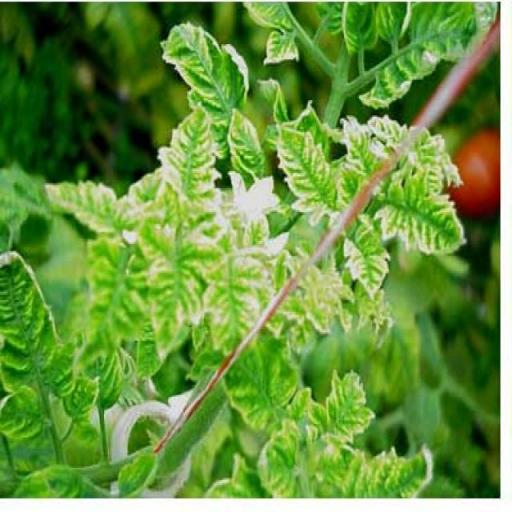disease_tomato: (342, 0, 500, 116), (135, 213, 225, 367), (0, 242, 63, 396), (158, 20, 250, 122), (379, 162, 469, 260), (314, 438, 438, 498), (274, 125, 346, 228), (154, 102, 224, 203), (40, 166, 130, 240), (306, 362, 378, 444), (252, 419, 302, 498), (345, 221, 392, 303)
